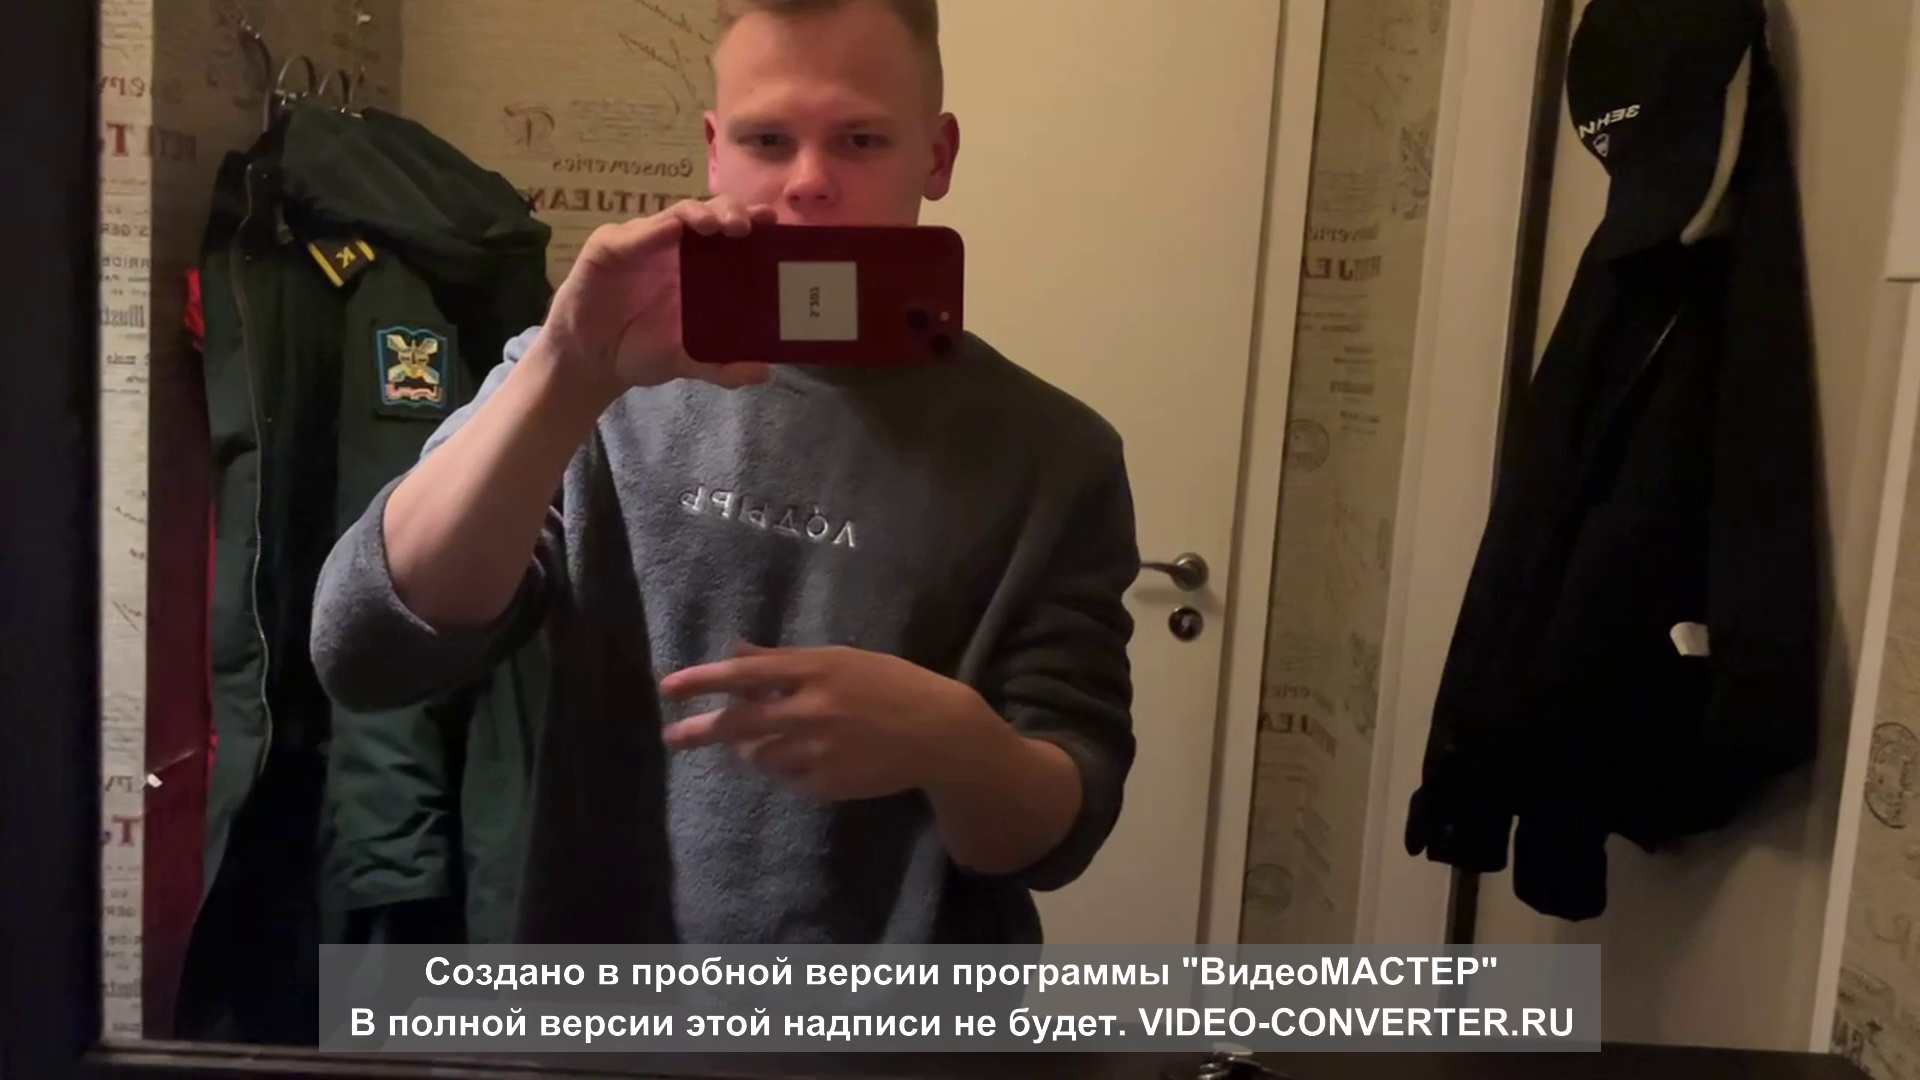Кисть: (657, 646, 938, 803)
